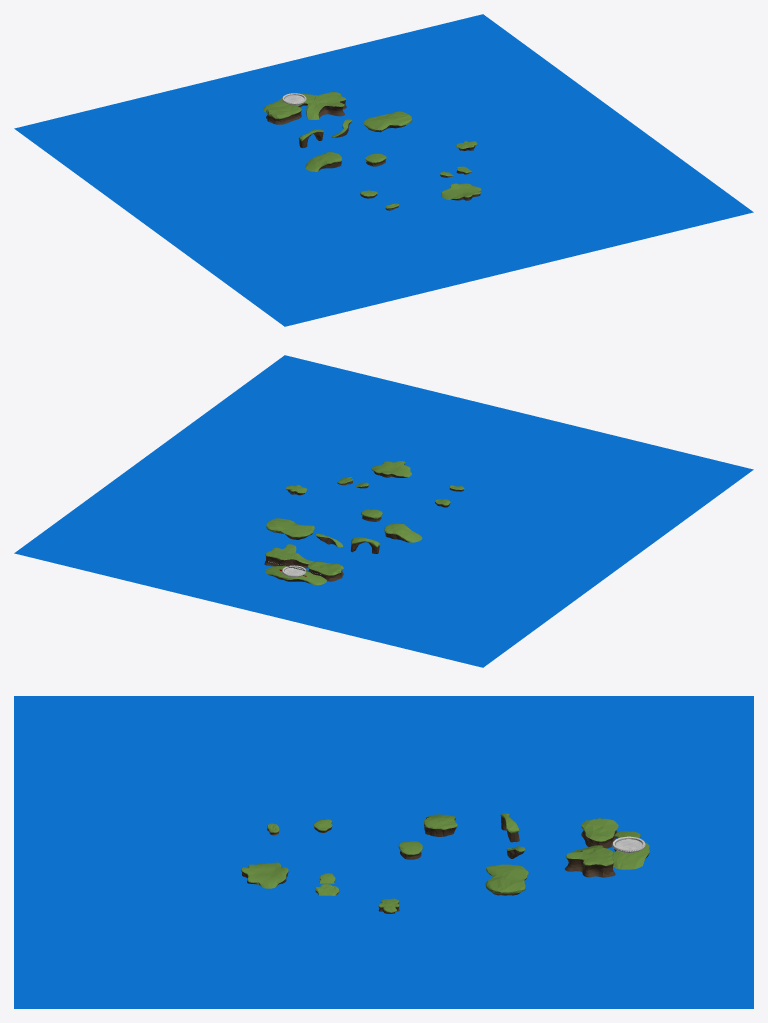
Rendered from art.glb.
3 renders of one model, top to bottom at view 1: azimuth 30°, elevation 25°; view 2: azimuth 150°, elevation 25°; view 3: azimuth 270°, elevation 25°, orthographic. The views are drawn at different scales.
Visible parts, largest first — view 1: sea, hill_2, hill_5, hill_1, hill_10; view 2: sea, hill_2, hill_5, hill_10, hill_1, hill_6; view 3: sea, hill_2, hill_5, hill_10, hill_1, hill_6, hill_7.
Part boxes in pixels (x1,y1,x2,y2): sea: (14, 14, 753, 326); hill_2: (306, 92, 346, 119); hill_5: (363, 111, 412, 132); hill_1: (266, 105, 301, 124); hill_10: (441, 183, 481, 200); sea: (14, 355, 753, 667); hill_2: (264, 544, 314, 568); hill_5: (266, 518, 314, 539); hill_10: (371, 461, 411, 477); hill_1: (308, 561, 343, 581); hill_6: (265, 566, 326, 585); sea: (14, 696, 753, 1008); hill_2: (565, 845, 615, 877); hill_5: (485, 864, 528, 895); hill_10: (241, 862, 288, 888); hill_1: (581, 818, 618, 848); hill_6: (613, 831, 649, 869); hill_7: (423, 814, 457, 836).
Bounding box in the file's own units: 500 × 16.06 × 500.
5 materials, 4 textured.
